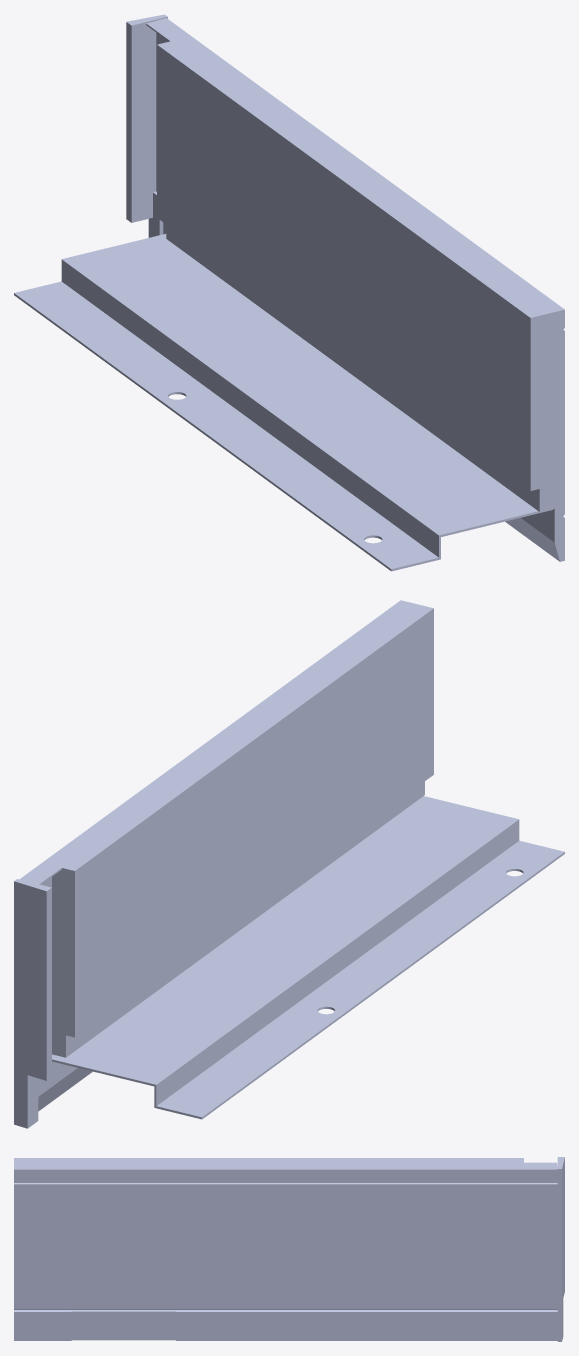
Rendered from lg-kava-M270-m.glb.
The picture shows the model from 3 angles, top to bottom: view 1: azimuth 30°, elevation 25°; view 2: azimuth 150°, elevation 25°; view 3: azimuth 270°, elevation 25°; orthographic projection. The views are drawn at different scales.
Parts seen in each view (by area): view 1: 41432626; view 2: 41432626; view 3: 41432626.
Boxes of the visible parts, box(x1,y1,x2,y2) form: 41432626: box(14, 14, 564, 571); 41432626: box(14, 600, 564, 1128); 41432626: box(14, 1157, 564, 1341).
Size of the model in its own units: 0.0653 by 0.0912 by 0.2635.
